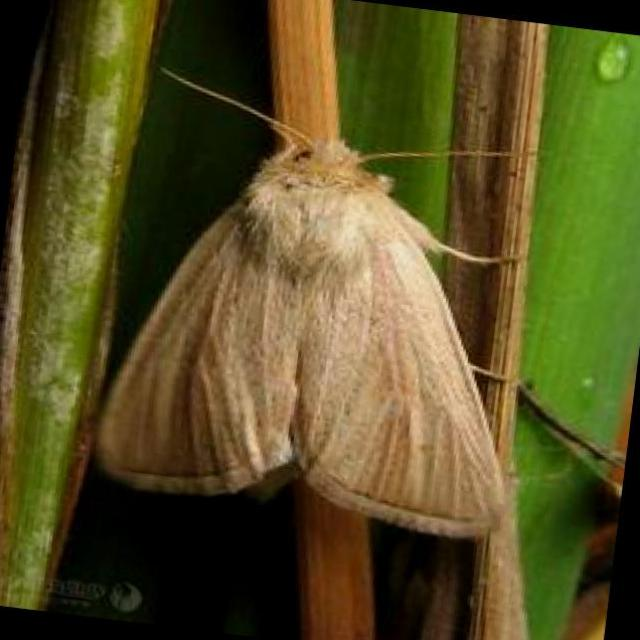stem borer: (99, 66, 511, 537)
